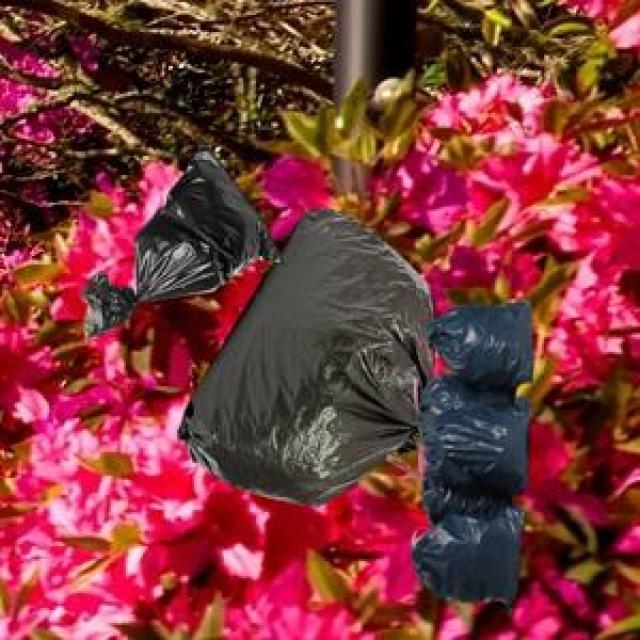Vinyl: (88, 152, 531, 599)
